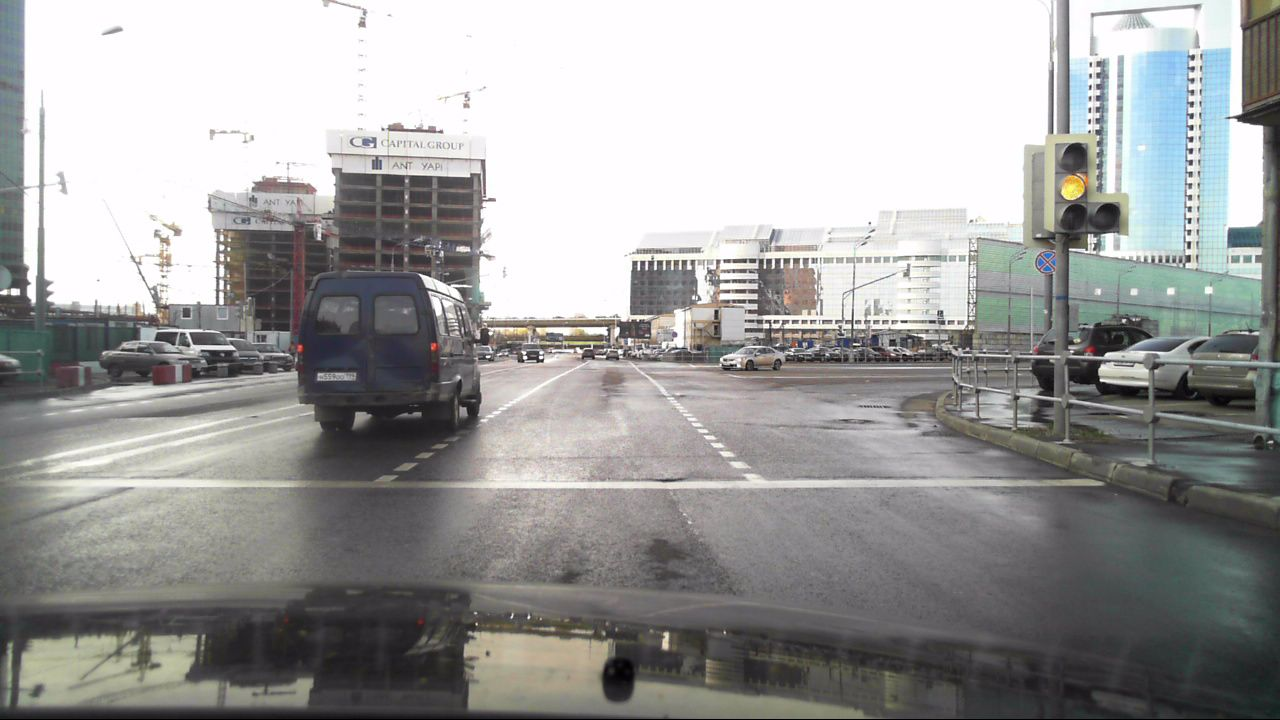No Parking: (1033, 250, 1059, 276)
